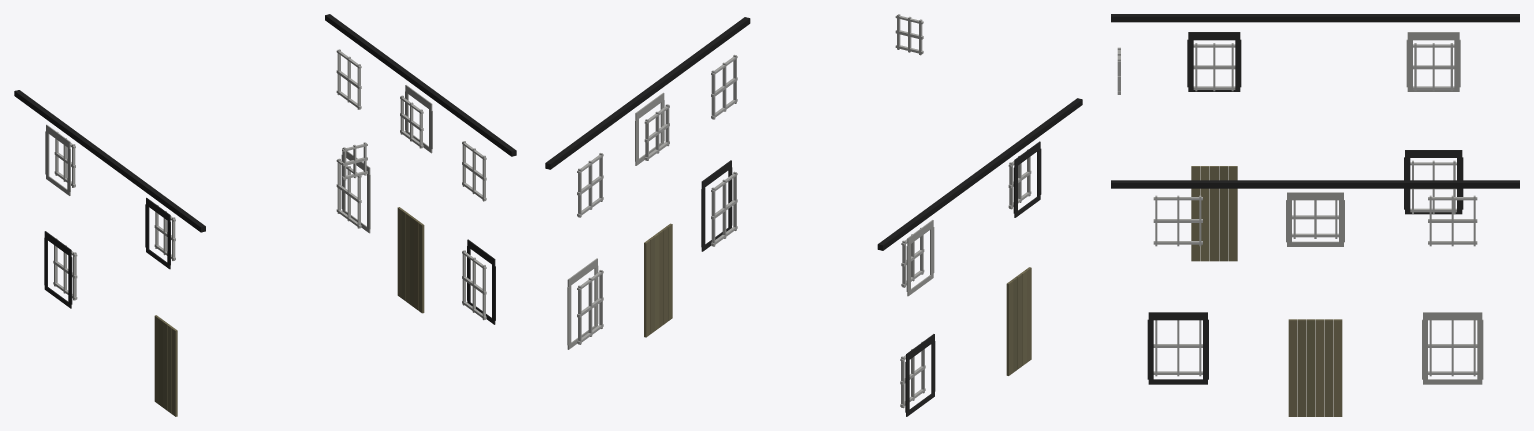
File: SM_Bld_218_Wood.glb
The picture shows the model from 3 angles, left to right: view 1: azimuth 30°, elevation 25°; view 2: azimuth 150°, elevation 25°; view 3: azimuth 270°, elevation 25°; orthographic projection. The views are drawn at different scales.
Parts seen in each view (by area): view 1: SM_Bld_218_Wood; view 2: SM_Bld_218_Wood; view 3: SM_Bld_218_Wood.
Part boxes in pixels (<box>): SM_Bld_218_Wood: <box>14,14,516,416</box>; SM_Bld_218_Wood: <box>545,14,1082,416</box>; SM_Bld_218_Wood: <box>1111,14,1519,416</box>.
Size of the model in its own units: 7.69 by 6.05 by 7.87.
